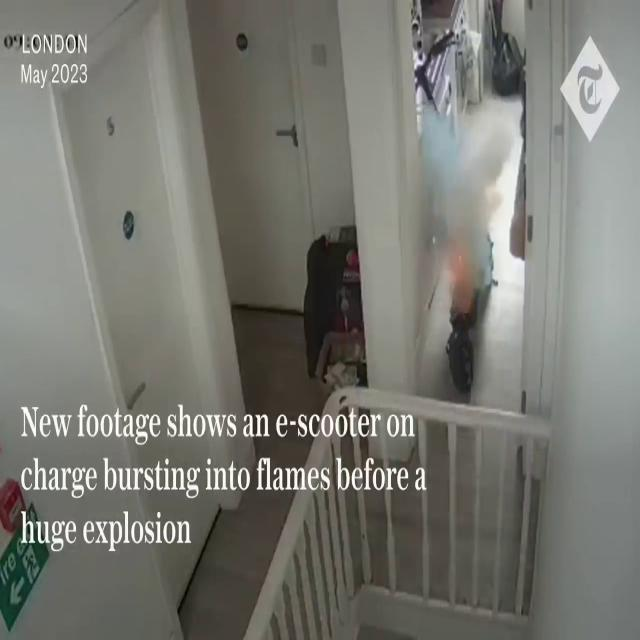Smoke: (410, 76, 494, 328)
